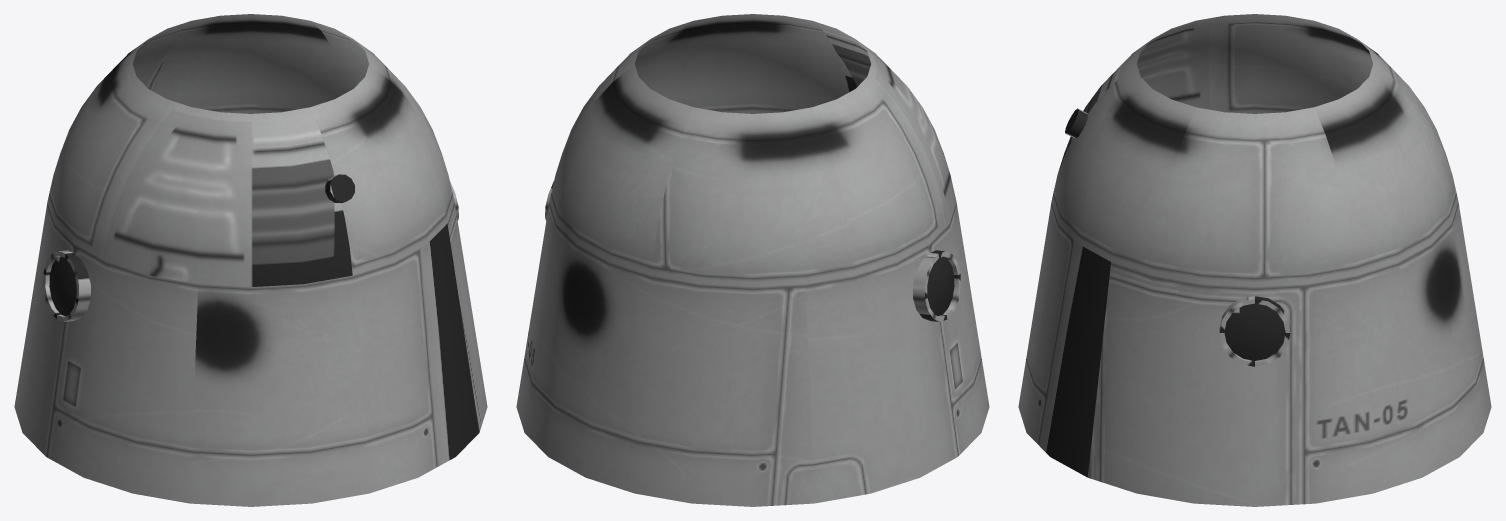
The model's file is tantares_crew_s1_1.obj.
3 views of the same model, side by side, from view 1: azimuth 30°, elevation 25°; view 2: azimuth 150°, elevation 25°; view 3: azimuth 270°, elevation 25° (orthographic).
Parts seen in each view (by area): view 1: mesh, windows; view 2: mesh, windows; view 3: mesh, windows.
Part boxes in pixels (x1,y1,x2,y2): mesh: (14,14,487,506); windows: (49,256,76,316); mesh: (516,14,989,506); windows: (927,256,954,316); mesh: (1018,14,1491,506); windows: (1224,303,1285,360).
Bounding box in the file's own units: 1.25 × 1 × 1.25.
